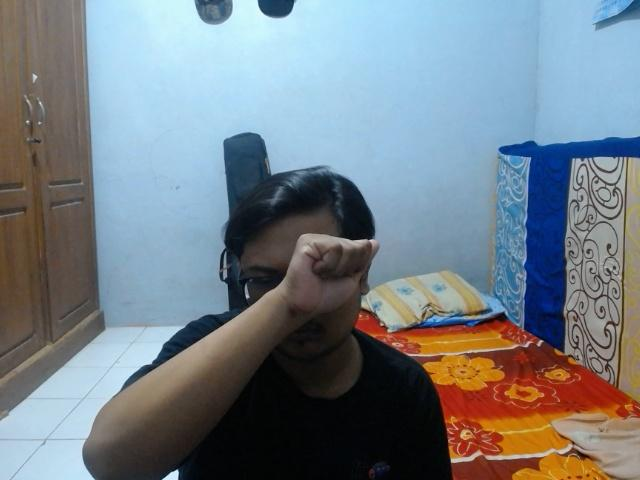Grab: (282, 229, 381, 319)
